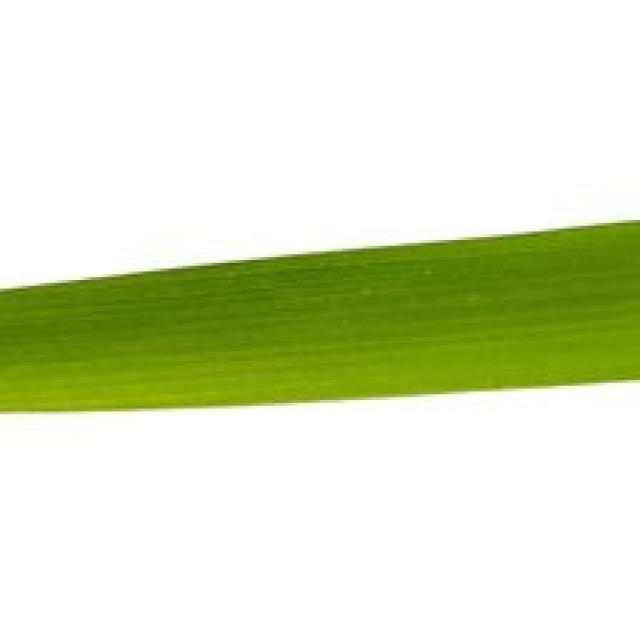Rice___Healthy_Rice_Plant: (0, 221, 637, 415)
